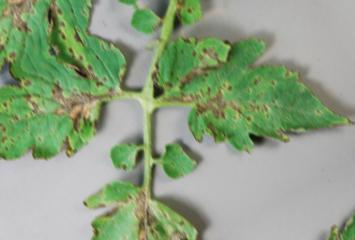Tomato Septoria leaf spot: (139, 0, 355, 207), (0, 22, 160, 193), (44, 152, 206, 240)
